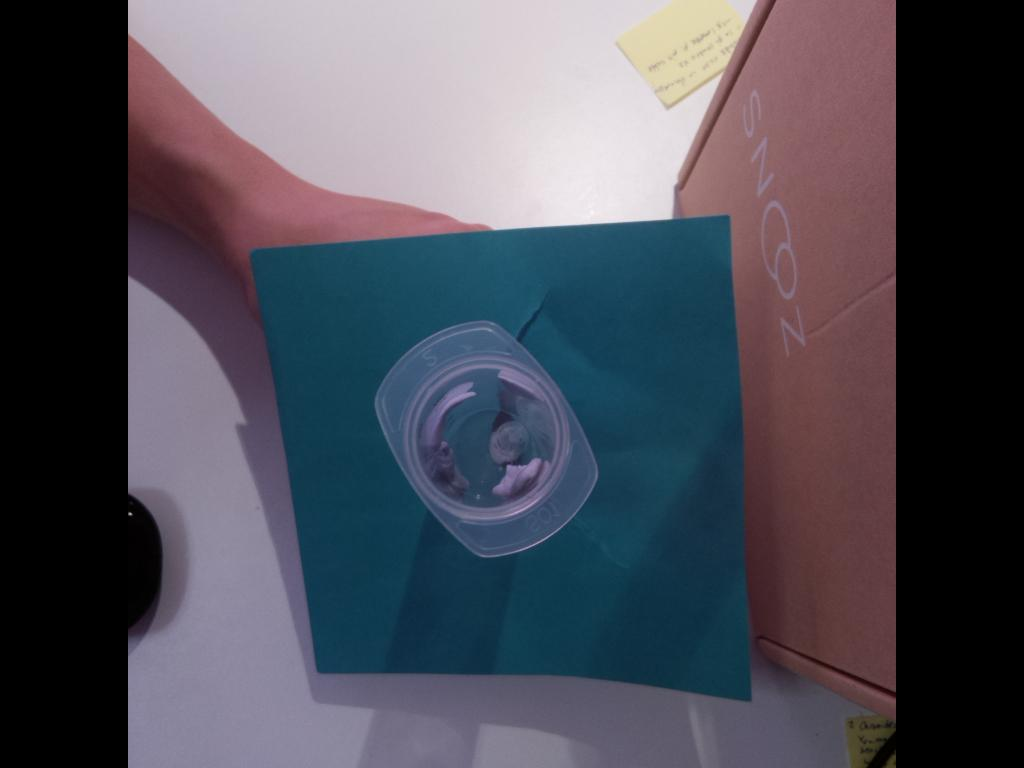dirty: (374, 319, 598, 557)
